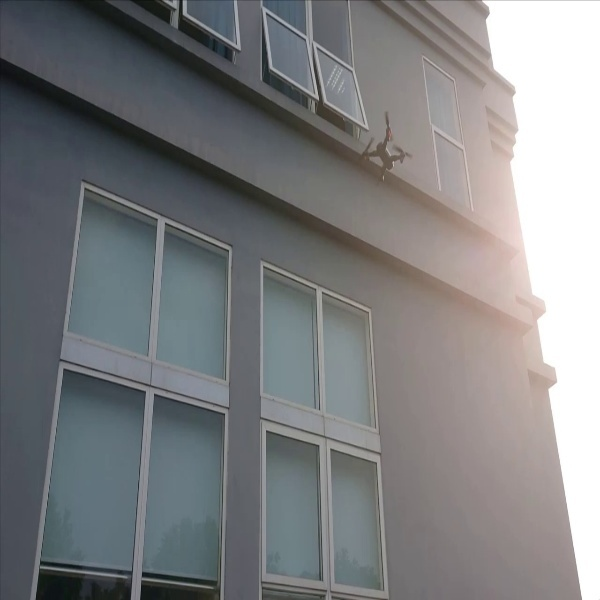drone: (350, 108, 419, 194)
